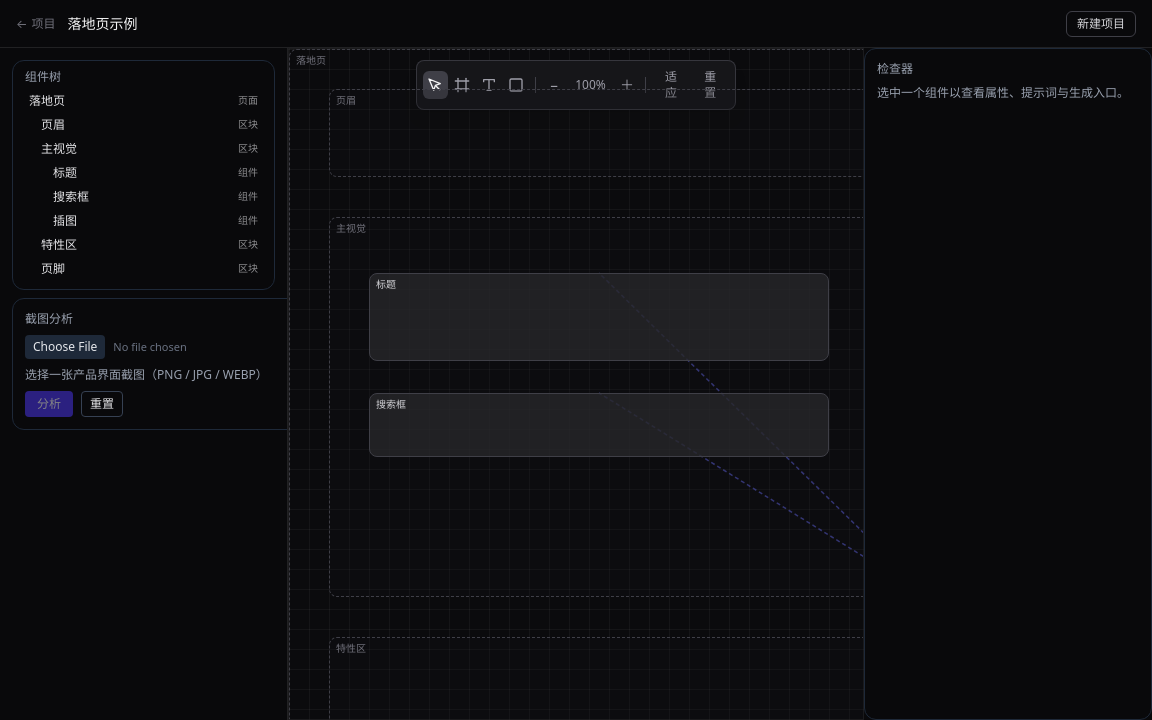
Test: WorkspaceView（产品闭环集成） › Generate 失败时显示结构化错误且不新增节点
The width and height of the screenshot is (1152, 720).
Click the button "插图 组件" at (144, 221), box [21,209,266,233]
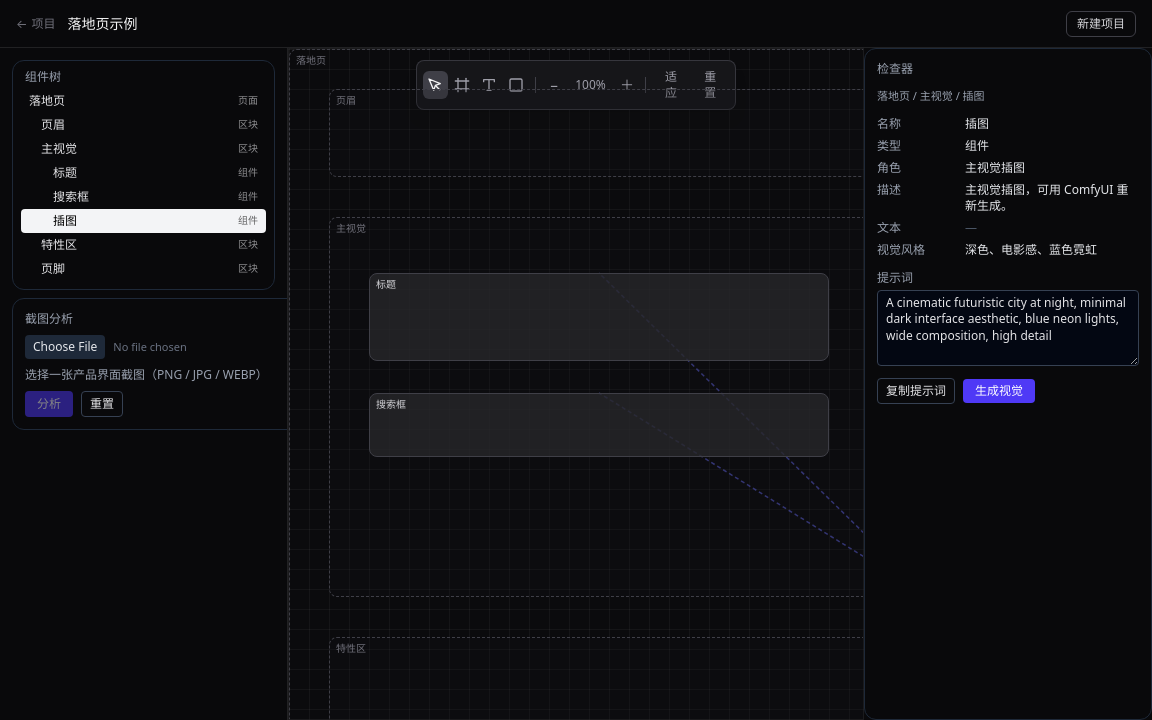
Click the button "生成视觉" at (999, 391), box [963,379,1035,403]
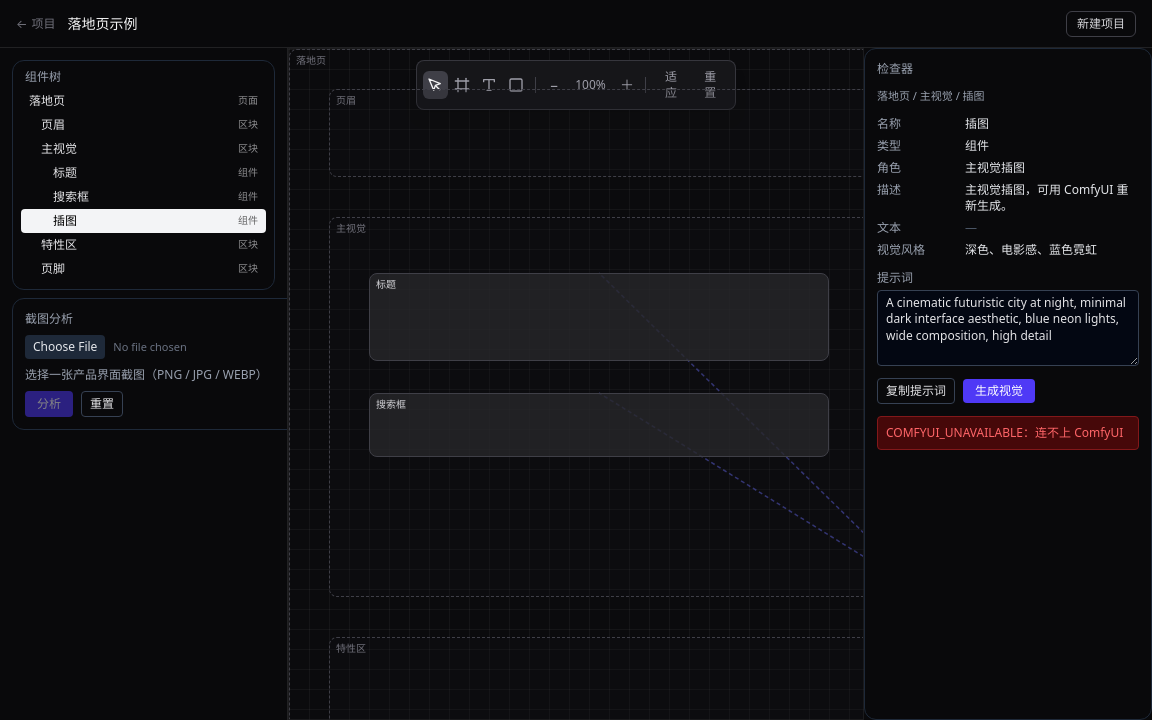
Check: the text "COMFYUI_UNAVAILABLE：连不上 ComfyUI" is shown, box [877,416,1139,450]
